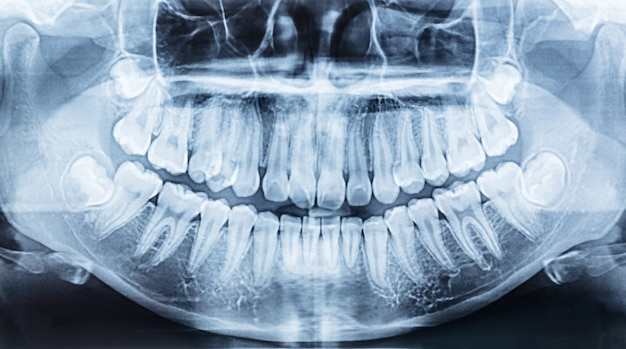canine: (365, 103, 404, 209), (233, 107, 269, 199), (362, 208, 391, 293), (256, 210, 281, 286)
incisor: (314, 112, 345, 216), (262, 102, 293, 206), (289, 112, 319, 211), (346, 110, 373, 208), (317, 211, 344, 281), (339, 210, 366, 279), (278, 210, 304, 277), (302, 208, 322, 280)
molar: (134, 179, 212, 277), (433, 177, 506, 276), (90, 153, 163, 247), (472, 160, 544, 247), (147, 96, 199, 178), (434, 101, 489, 178), (466, 91, 526, 156), (516, 145, 573, 211), (111, 93, 165, 160), (62, 149, 116, 215), (475, 59, 532, 114), (106, 55, 157, 102)
premolar: (402, 194, 461, 282), (382, 201, 432, 295), (189, 91, 231, 188), (192, 198, 239, 277), (370, 103, 404, 211), (208, 100, 246, 196), (389, 108, 429, 194), (415, 104, 451, 191), (226, 199, 260, 287)
